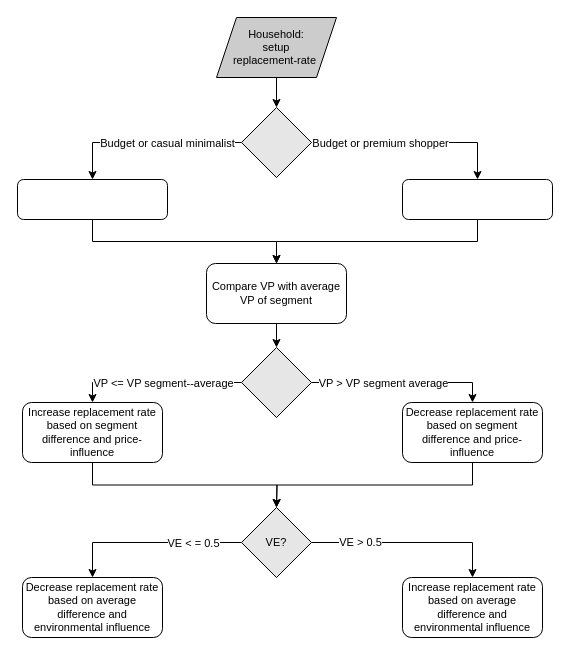
Some shapes in this 570 by 655 pixel diagram are drawn without their labels. Here are the shapes that lost their labels. From the top down, the centre of each, then its label:
At (x=276, y=142): "Consumer-segment?".
At (x=92, y=199): "Increase replacement rate based on segment-influence".
At (x=477, y=199): "Decrease replacement rate based on segment-influence".
At (x=276, y=382): "VP?".
